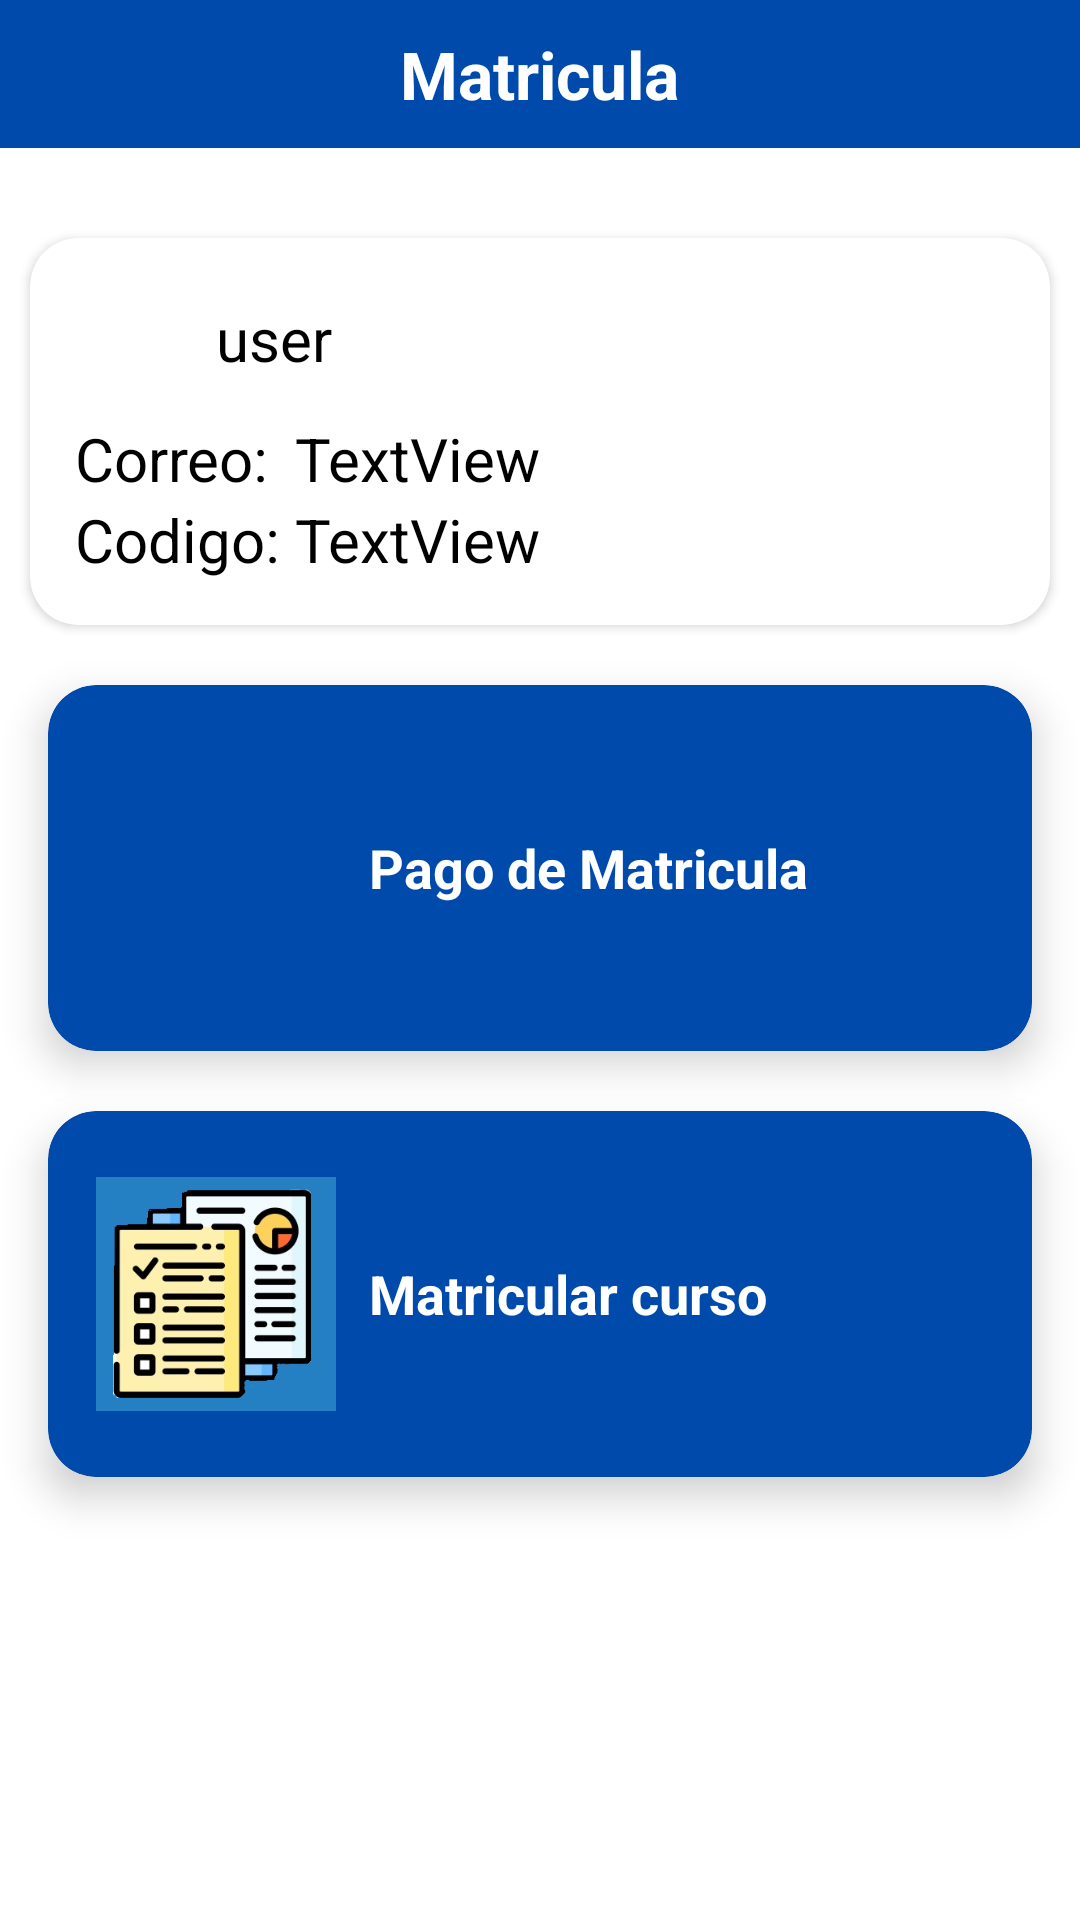

Where icons sit on this 1080 x 1920 app screen, as (x1, y1, x2, y2):
cursomatricula: (96, 1177, 336, 1411)
